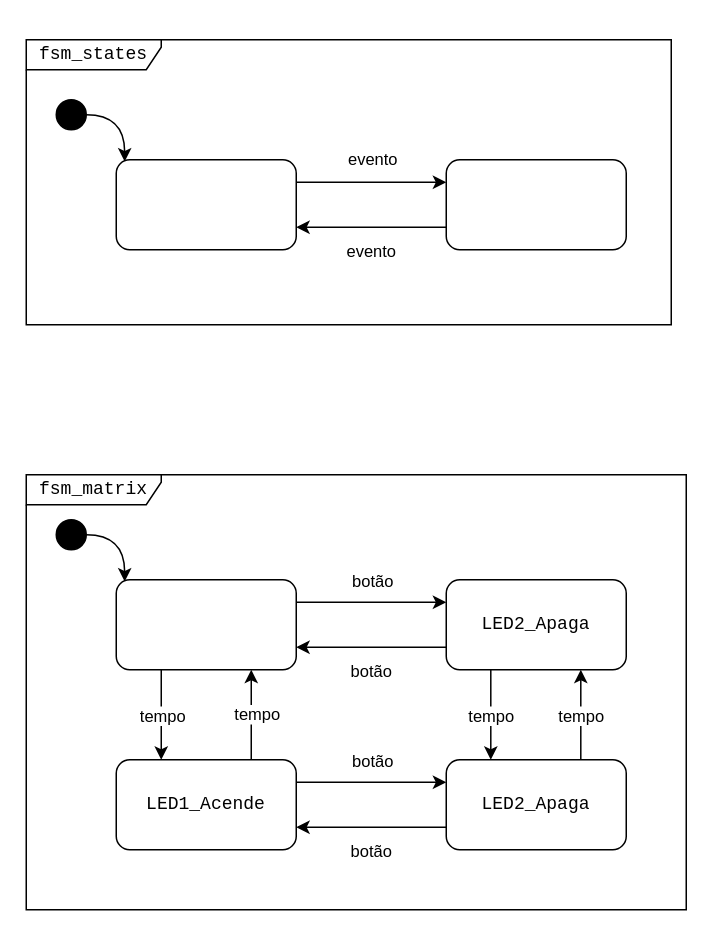
Image size: 713x936. Some labels were removed from this diagram. The shapes that lost their labels are listed below. From the top down, each one's centre as x and y in pixels, then its label:
the point at 205,204: Desligado
the point at 535,204: Ligado
the point at 205,624: LED1_Apaga
